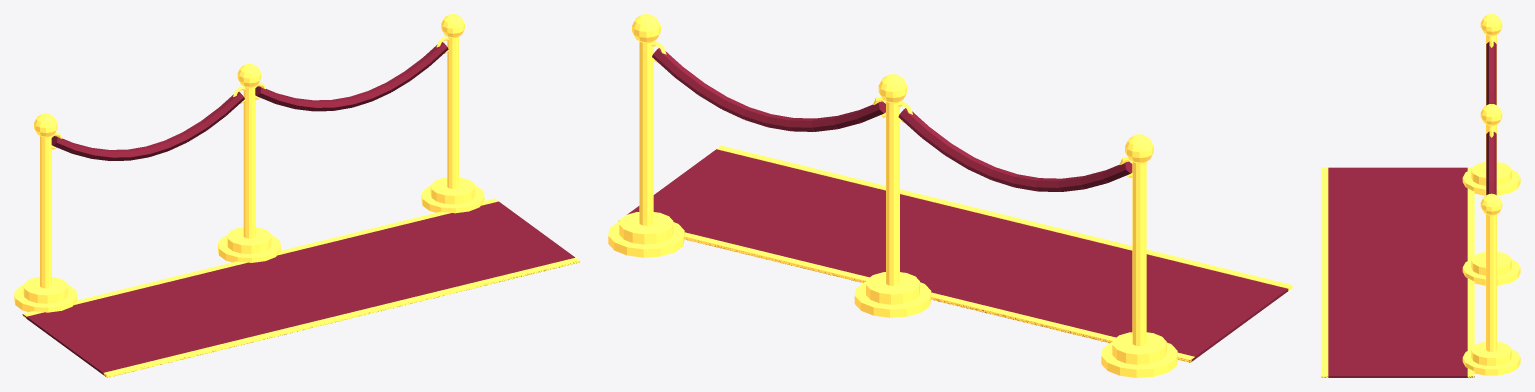
The model's file is lux_vip_rope.glb.
3 views of the same model, side by side, from view 1: azimuth 30°, elevation 25°; view 2: azimuth 150°, elevation 25°; view 3: azimuth 270°, elevation 25° (orthographic). The views are drawn at different scales.
Visible parts, largest first — view 1: lux_vip_rope; view 2: lux_vip_rope; view 3: lux_vip_rope.
Part boxes in pixels (x1=…): lux_vip_rope: x1=14, y1=14, x2=579, y2=377; lux_vip_rope: x1=608, y1=14, x2=1292, y2=377; lux_vip_rope: x1=1321, y1=14, x2=1520, y2=377.
Size of the model in its own units: 2.9 by 1.1 by 1.17.
